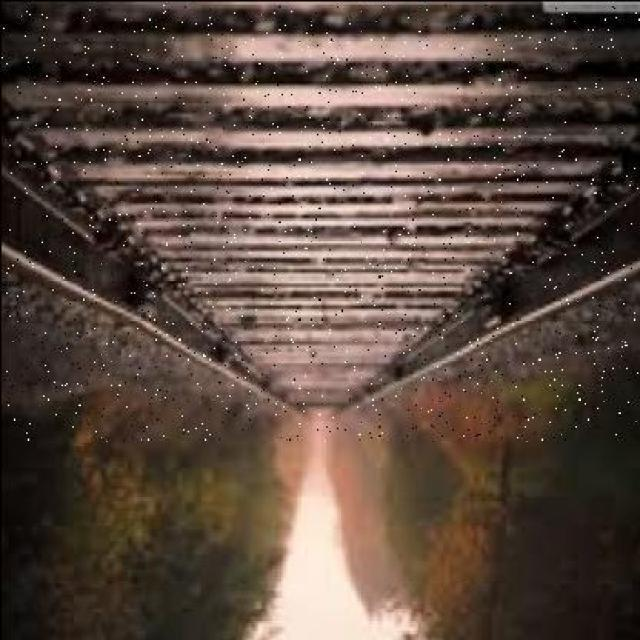rail: (1, 4, 640, 441)
